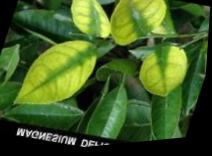Citrus Greening: (11, 27, 106, 124), (131, 39, 195, 107), (102, 0, 168, 56), (58, 0, 118, 42)
